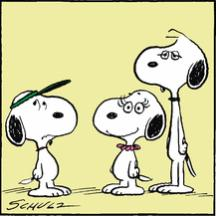snoopy: (5, 78, 78, 198)
